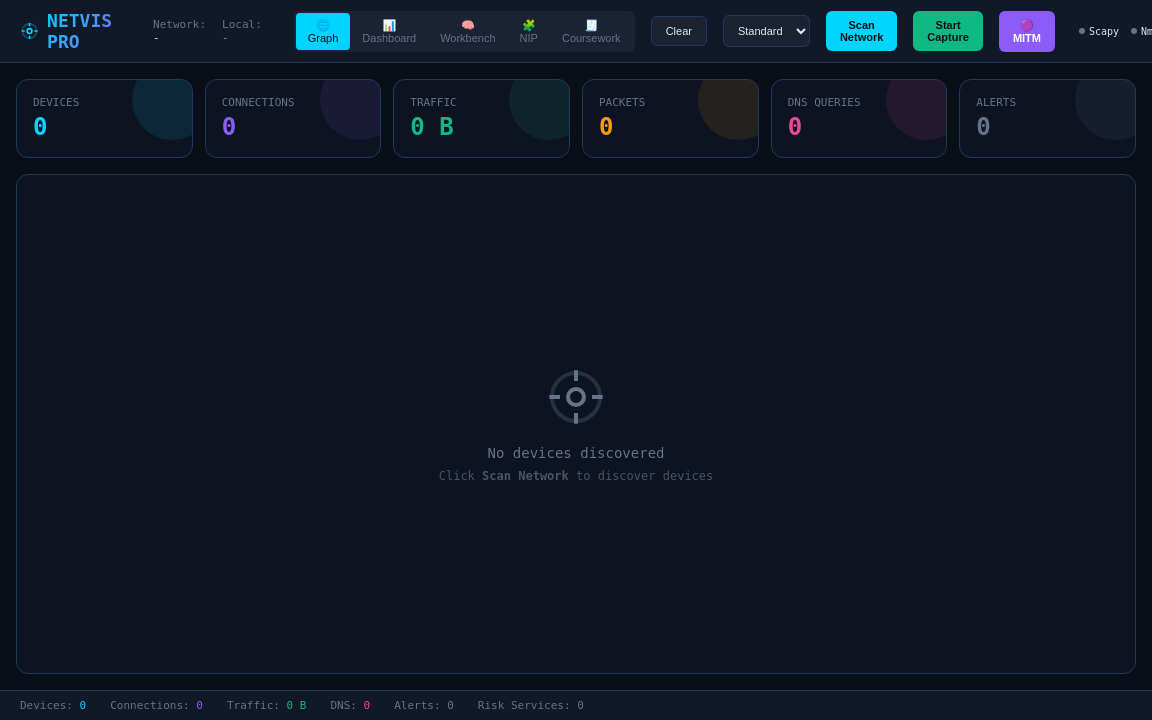
Test case: App smoke tests › loads dashboard core panels
This screenshot has width=1152, height=720.
Click the button "📊 Dashboard": (389, 31) x1=350 y1=12 x2=428 y2=50
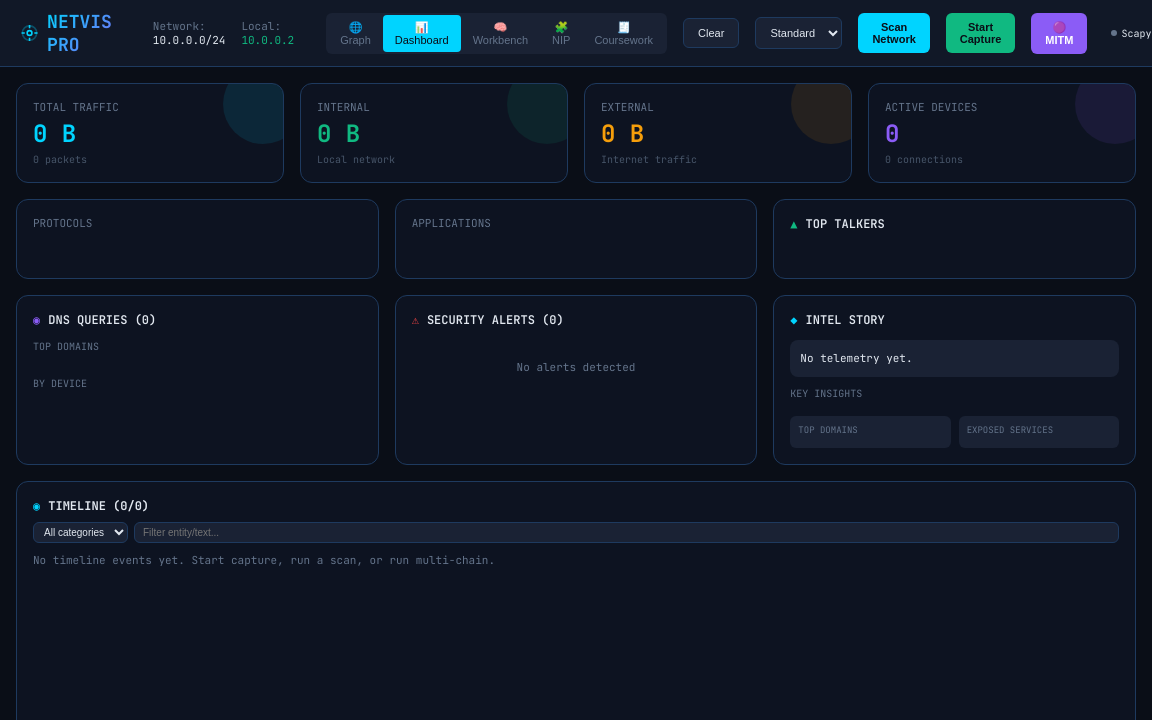
Result: the text "◉ TIMELINE (0/0)" is shown at x1=33 y1=498 x2=149 y2=514
Result: the text "⚠ SECURITY ALERTS (0)" is shown at x1=412 y1=312 x2=564 y2=328
